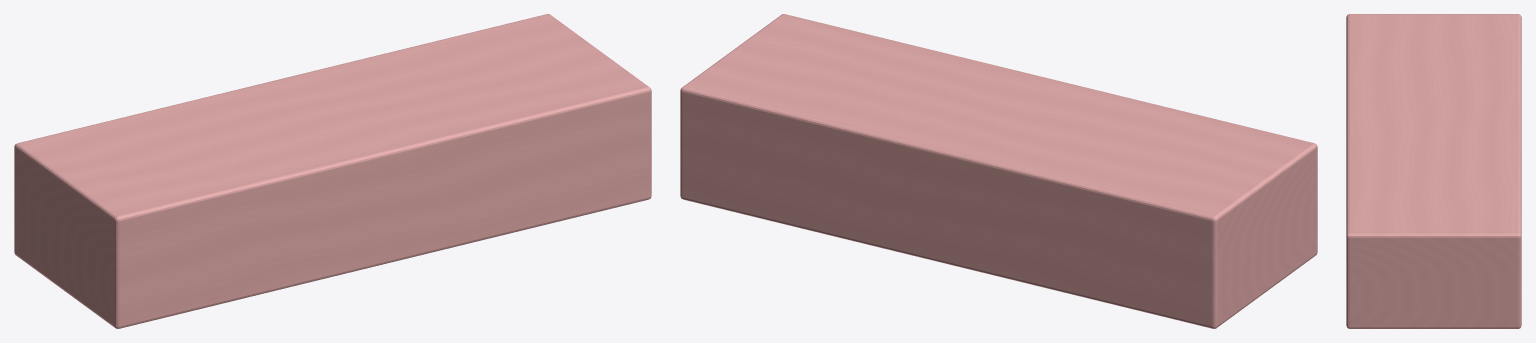
The model's file is rose.glb.
3 renders of one model, left to right at view 1: azimuth 30°, elevation 25°; view 2: azimuth 150°, elevation 25°; view 3: azimuth 270°, elevation 25°, orthographic. The views are drawn at different scales.
Parts seen in each view (by area): view 1: Block_L01_S1; view 2: Block_L01_S1; view 3: Block_L01_S1.
Boxes of the visible parts, left/top/right/bottom form: Block_L01_S1: left=14, top=14, right=651, bottom=328; Block_L01_S1: left=680, top=14, right=1317, bottom=328; Block_L01_S1: left=1346, top=14, right=1521, bottom=328.
Bounding box in the file's own units: 0.075 × 0.015 × 0.025.
Materials: 1 (1 with a texture image).
